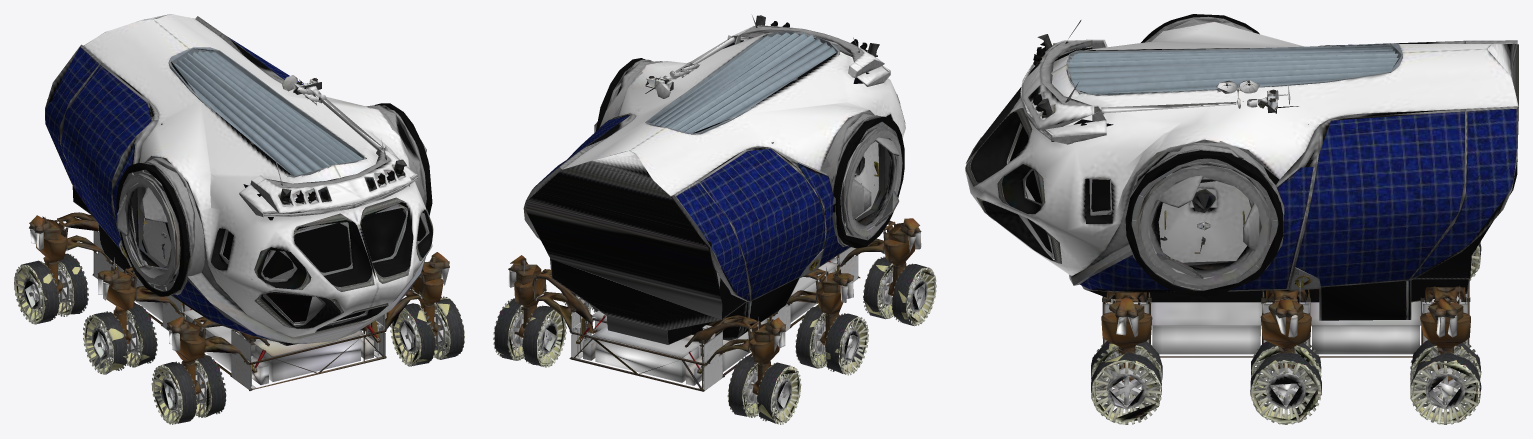
File: sev.glb
3 views of the same model, side by side, from view 1: azimuth 30°, elevation 25°; view 2: azimuth 150°, elevation 25°; view 3: azimuth 270°, elevation 25° (orthographic). The views are drawn at different scales.
Parts seen in each view (by area): view 1: MMSEV; view 2: MMSEV; view 3: MMSEV.
Boxes of the visible parts, x1,y1,x2,y2 form: MMSEV: (14, 14, 464, 424); MMSEV: (493, 15, 936, 424); MMSEV: (965, 14, 1518, 424).
Bounding box in the file's own units: 4.04 × 3.49 × 5.91.
Materials: 1 (1 with a texture image).
